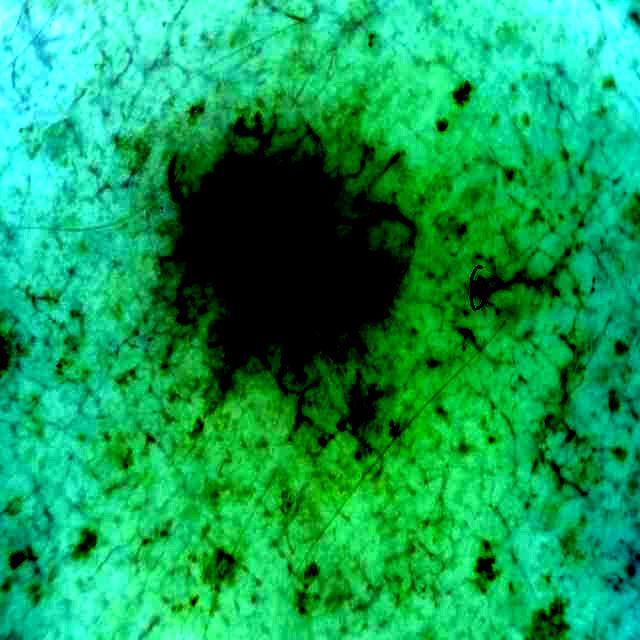DF: (181, 117, 416, 393)
